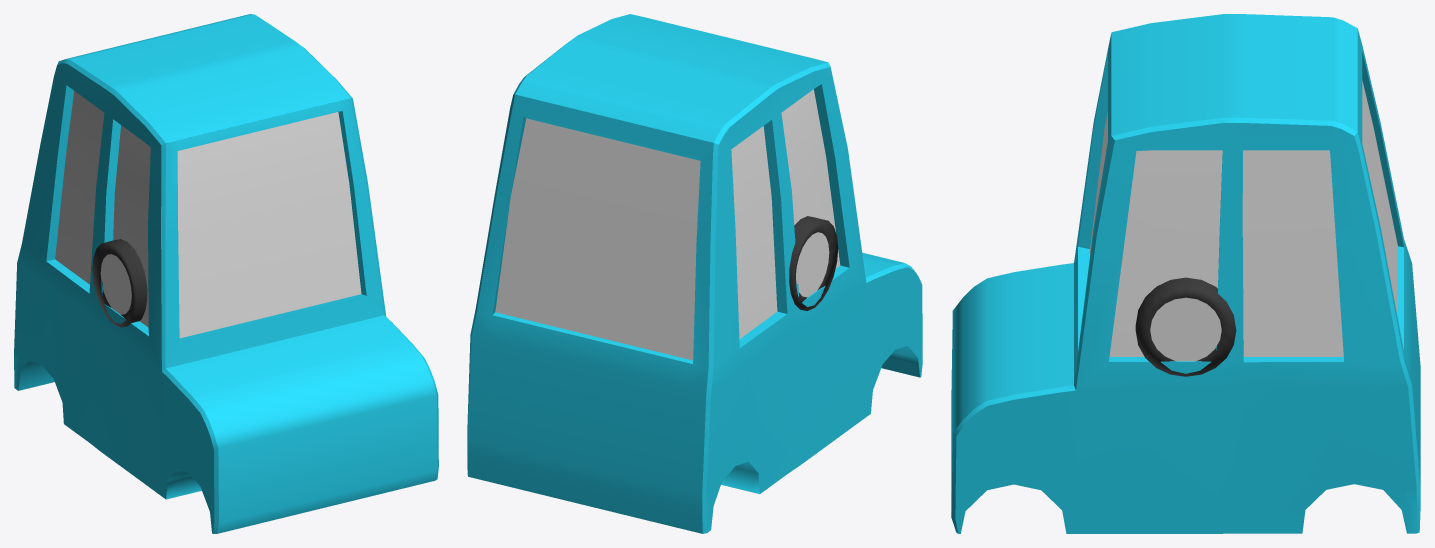
File: car 2.fbx
3 views of the same model, side by side, from view 1: azimuth 30°, elevation 25°; view 2: azimuth 150°, elevation 25°; view 3: azimuth 270°, elevation 25° (orthographic). The views are drawn at different scales.
Visible parts, largest first — view 1: car_2_chasis, car_2_right_wheel, car_2_back_wheel; view 2: car_2_chasis, car_2_right_wheel, car_2_back_wheel; view 3: car_2_chasis, car_2_left_wheel, car_2_back_wheel.
Boxes of the visible parts, x1,y1,x2,y2 form: car_2_chasis: [14, 14, 438, 533]; car_2_right_wheel: [92, 242, 147, 326]; car_2_back_wheel: [92, 239, 147, 327]; car_2_chasis: [467, 14, 922, 533]; car_2_right_wheel: [789, 219, 838, 309]; car_2_back_wheel: [789, 216, 838, 310]; car_2_chasis: [951, 14, 1420, 533]; car_2_left_wheel: [1136, 286, 1235, 361]; car_2_back_wheel: [1135, 277, 1236, 376].
Size of the model in its own units: 80.78 by 121 by 127.
